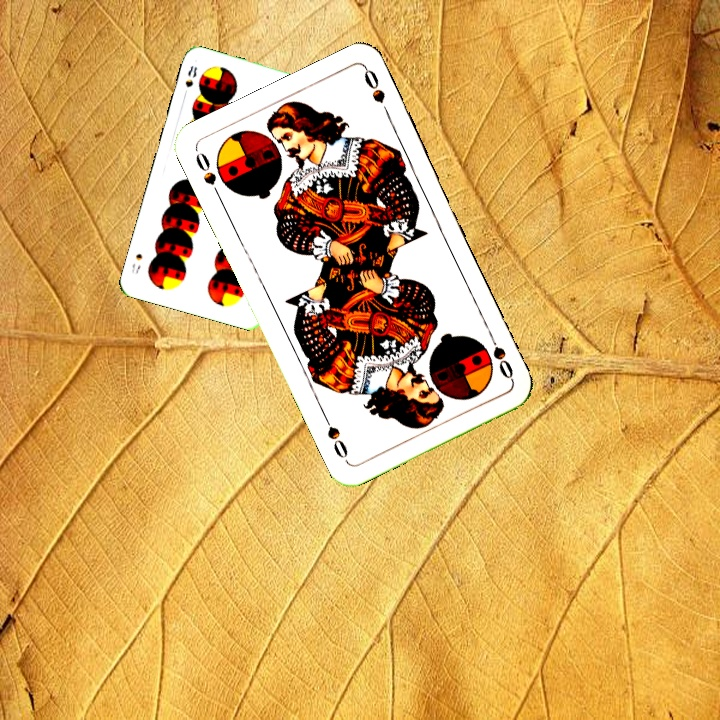S8: (181, 62, 200, 90)
SO: (191, 146, 224, 202), (484, 327, 516, 383)
